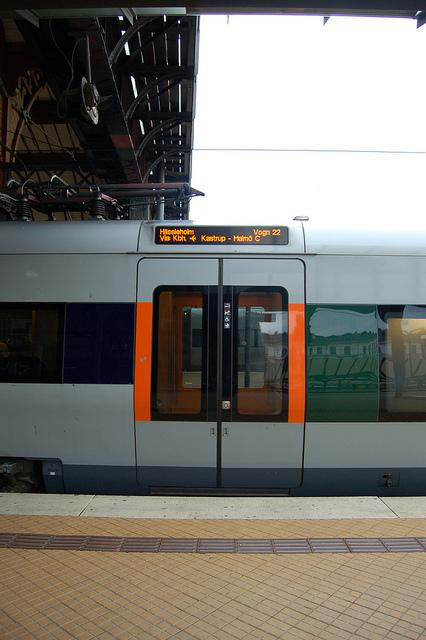Train: (0, 219, 426, 497)
